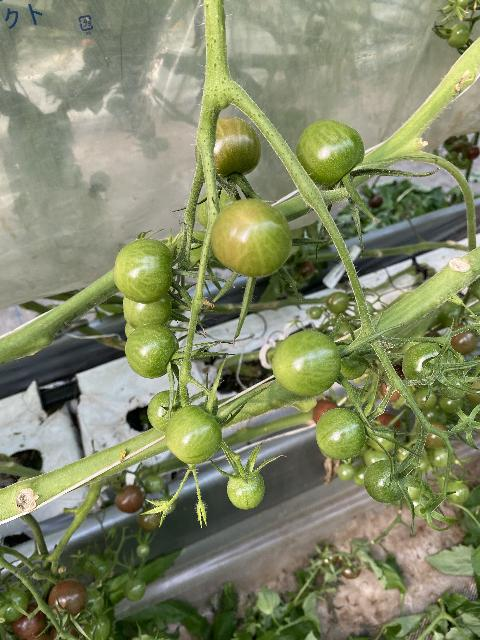l_fully_ripened: (47, 579, 88, 622), (12, 603, 47, 638)
l_green: (209, 198, 293, 278), (296, 118, 366, 187), (271, 330, 342, 398), (194, 117, 261, 180), (114, 238, 173, 304), (164, 404, 223, 465), (126, 324, 180, 378), (316, 407, 367, 461), (401, 342, 450, 388), (364, 458, 409, 503), (148, 389, 194, 432), (197, 186, 238, 230), (123, 293, 173, 329), (227, 468, 266, 509), (175, 231, 214, 269), (335, 338, 368, 381), (0, 587, 29, 623), (437, 371, 468, 400), (413, 505, 432, 518)
